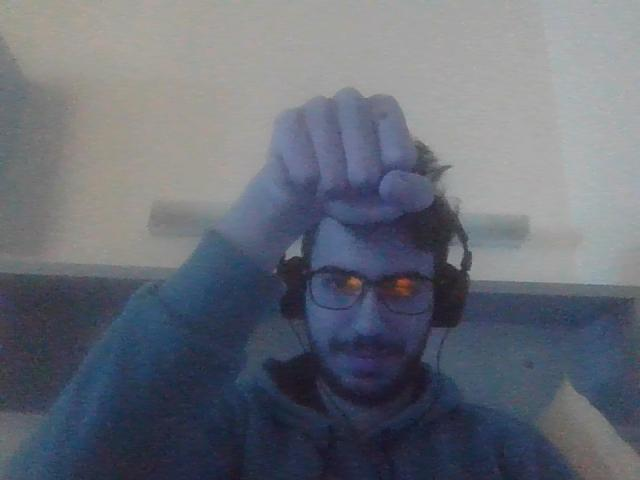yes: (270, 85, 435, 226)
